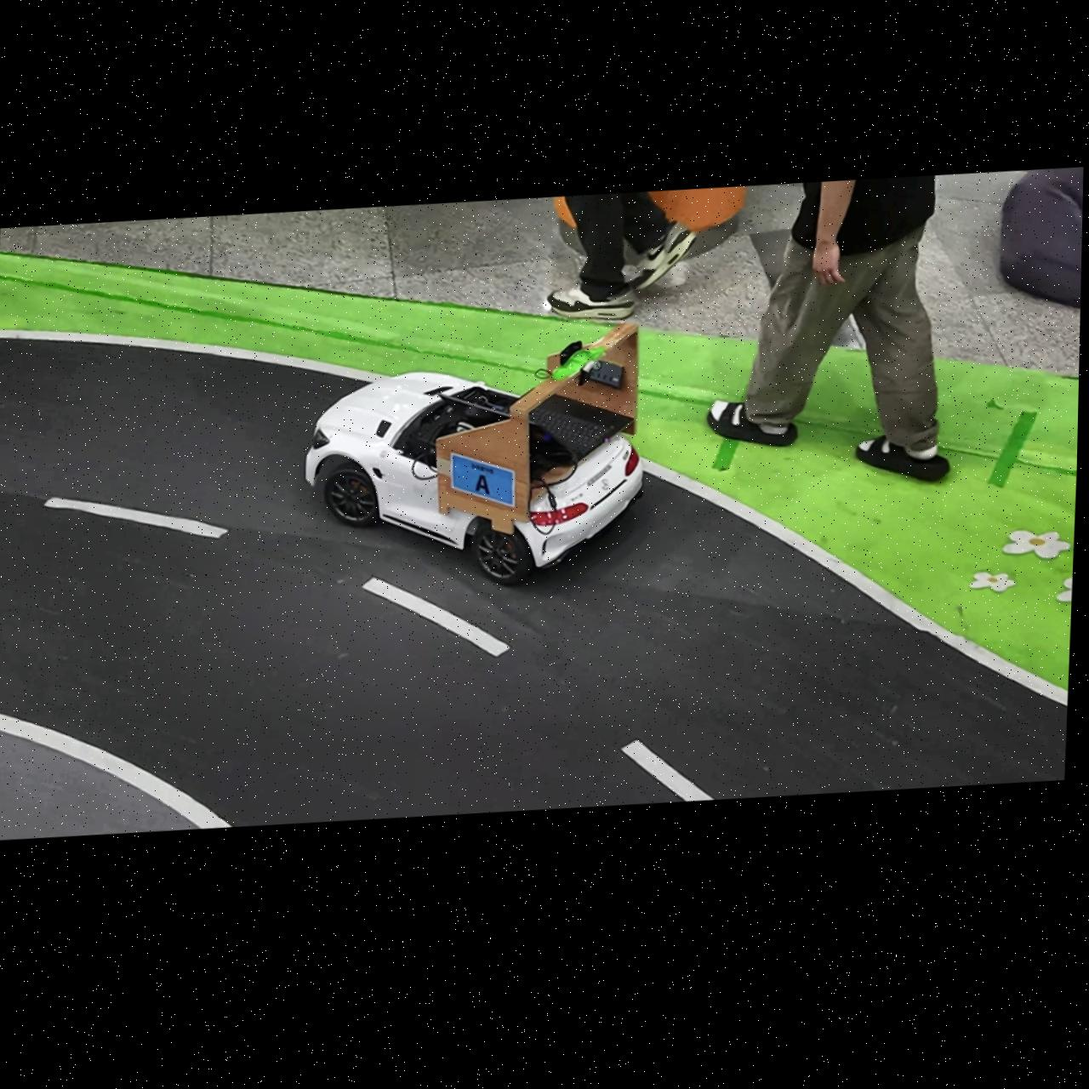broken_line: (361, 577, 510, 657), (44, 497, 228, 538), (620, 739, 714, 801)
